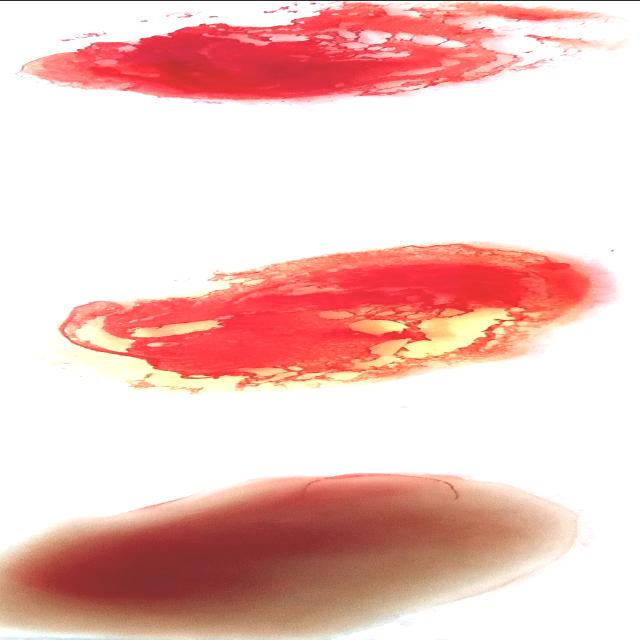B: (56, 245, 606, 402)
D: (5, 3, 613, 94)
